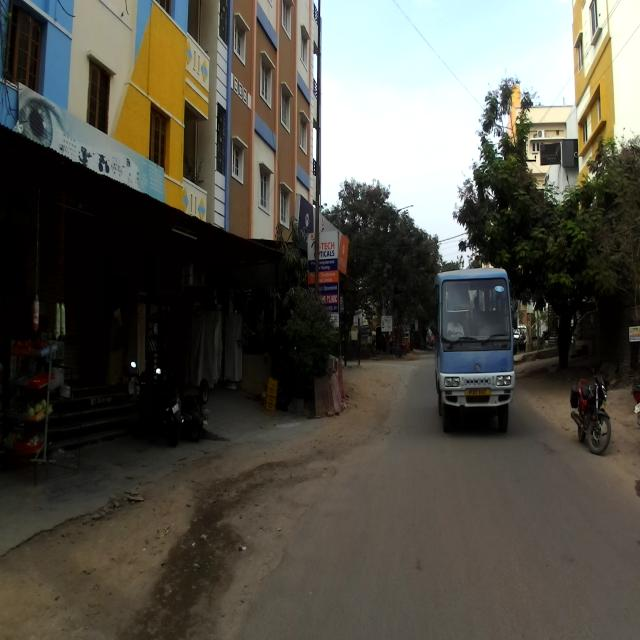bus ahead at: (439, 266, 516, 424)
motorcycle ahead at: (567, 364, 618, 463)
